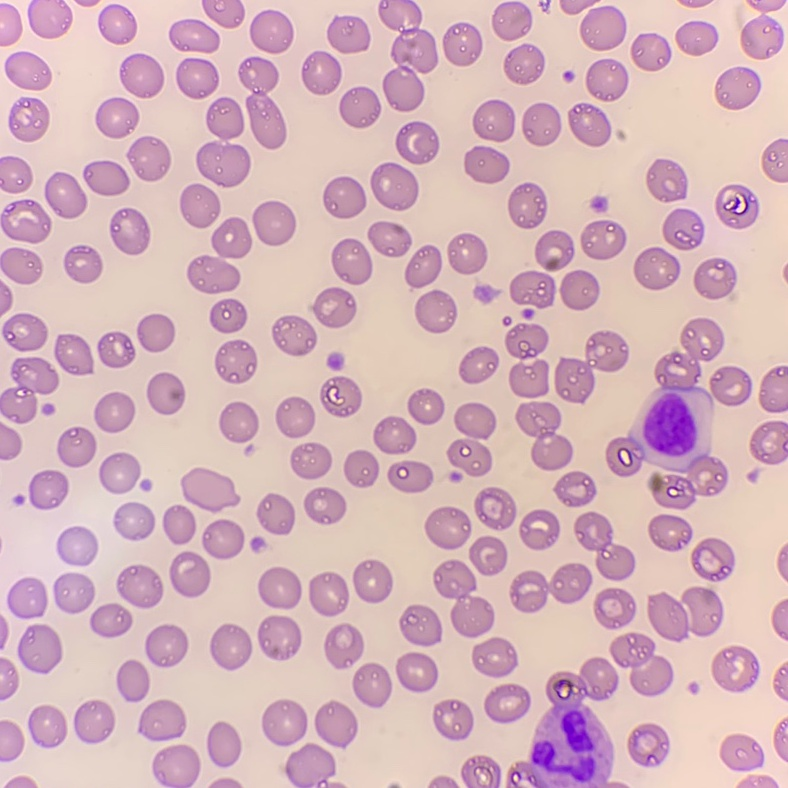RBC: (606, 318, 751, 508), (507, 658, 623, 787), (378, 0, 437, 111), (555, 332, 628, 402), (187, 218, 251, 293), (433, 560, 493, 637), (239, 56, 285, 148), (648, 587, 723, 640), (575, 513, 634, 580), (511, 563, 591, 612), (611, 633, 673, 695), (0, 357, 58, 423), (516, 402, 572, 469), (448, 403, 495, 476), (196, 141, 250, 186), (182, 468, 238, 511), (285, 744, 341, 787), (371, 163, 418, 210), (0, 199, 50, 242), (712, 646, 759, 691), (17, 624, 61, 672), (580, 6, 626, 50), (262, 700, 306, 745), (116, 565, 162, 608), (153, 745, 200, 787), (715, 67, 761, 109), (634, 247, 680, 289), (138, 700, 185, 741), (716, 184, 759, 228), (45, 172, 86, 218), (741, 15, 784, 58), (120, 54, 163, 97), (128, 136, 170, 180), (253, 201, 295, 245), (426, 507, 470, 549), (315, 702, 357, 746), (210, 624, 251, 669), (170, 551, 210, 597), (568, 103, 610, 146), (692, 538, 734, 581), (258, 616, 300, 659), (332, 239, 372, 284), (110, 208, 149, 254), (250, 10, 292, 52), (586, 59, 628, 101), (396, 121, 438, 163), (646, 159, 688, 201), (215, 340, 256, 383), (8, 97, 48, 141), (272, 315, 316, 355), (485, 684, 530, 723), (5, 51, 51, 89), (96, 97, 138, 138), (323, 177, 365, 218), (663, 208, 704, 250), (415, 290, 456, 332), (259, 567, 301, 608), (145, 625, 187, 666), (628, 724, 669, 766), (313, 287, 356, 327), (74, 700, 114, 743), (581, 220, 625, 259), (309, 572, 348, 616), (324, 624, 363, 668), (508, 183, 546, 228), (472, 638, 517, 676), (473, 100, 514, 141), (176, 58, 218, 98), (694, 258, 736, 298), (475, 487, 515, 529), (302, 51, 341, 94), (180, 184, 219, 227), (353, 663, 391, 707), (169, 19, 219, 52), (320, 376, 361, 416), (99, 453, 140, 493), (594, 588, 635, 628), (400, 605, 441, 645), (522, 103, 561, 145), (353, 560, 392, 602), (28, 0, 71, 38), (510, 271, 555, 307), (340, 87, 380, 127), (94, 392, 134, 432), (54, 573, 94, 613), (396, 652, 437, 691), (443, 23, 481, 65), (3, 313, 46, 350), (750, 421, 787, 464), (465, 146, 509, 182), (492, 1, 532, 40), (504, 44, 544, 83), (535, 230, 574, 270), (54, 334, 93, 374), (219, 402, 258, 442), (433, 700, 473, 739), (374, 416, 415, 454), (202, 520, 243, 558), (28, 706, 66, 747), (206, 97, 243, 139), (57, 427, 96, 466), (29, 470, 68, 509), (520, 510, 559, 549), (448, 233, 486, 273), (276, 397, 314, 437), (114, 502, 154, 540), (147, 373, 184, 414), (304, 487, 345, 524), (327, 16, 369, 52), (405, 246, 441, 288), (721, 735, 763, 771), (84, 161, 128, 195), (98, 4, 136, 43), (561, 270, 599, 309), (8, 578, 46, 617), (257, 494, 294, 534), (368, 221, 410, 256), (0, 248, 42, 283), (649, 515, 691, 550), (207, 722, 240, 766), (631, 33, 670, 70), (509, 360, 548, 397), (58, 527, 97, 564), (291, 443, 331, 479), (676, 21, 718, 55), (505, 324, 547, 358), (469, 537, 506, 575), (388, 461, 433, 492), (90, 603, 131, 637), (64, 245, 101, 282), (137, 314, 174, 351), (460, 347, 498, 383), (117, 660, 149, 702), (556, 472, 595, 506), (759, 366, 787, 412), (98, 332, 134, 367), (408, 389, 444, 424), (344, 450, 378, 487), (163, 506, 195, 544), (210, 299, 246, 332), (462, 756, 500, 787), (0, 156, 32, 192), (202, 0, 244, 27), (762, 139, 787, 182), (0, 721, 23, 761), (0, 3, 21, 45), (0, 658, 18, 699), (0, 424, 21, 459), (773, 600, 787, 638), (774, 719, 787, 759), (774, 664, 787, 699), (560, 0, 593, 13), (474, 284, 497, 302), (739, 776, 776, 787), (749, 0, 784, 11), (0, 284, 12, 313), (590, 196, 608, 212), (7, 777, 35, 787), (327, 352, 343, 369), (778, 547, 787, 577), (212, 778, 239, 787), (435, 777, 456, 787), (251, 537, 265, 551), (0, 618, 7, 644), (42, 404, 53, 414), (692, 0, 707, 6), (523, 309, 533, 318), (450, 472, 460, 481), (564, 71, 573, 80), (79, 0, 95, 5), (142, 480, 150, 489)
